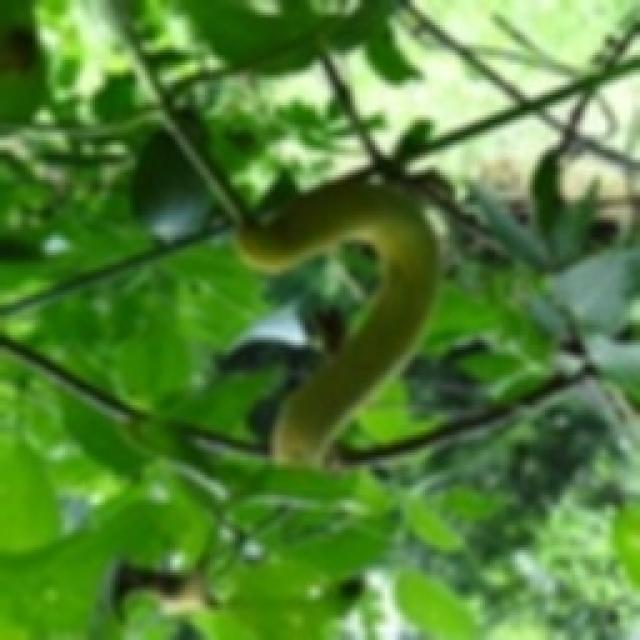Elderberry_rust: (205, 173, 486, 520)
